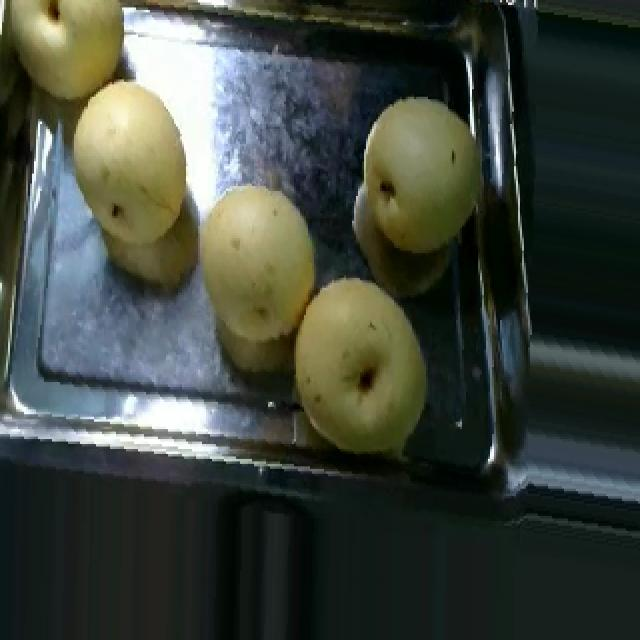Fruit: (280, 250, 442, 469), (176, 169, 340, 367), (348, 84, 506, 278), (56, 67, 200, 258), (0, 0, 132, 114)
